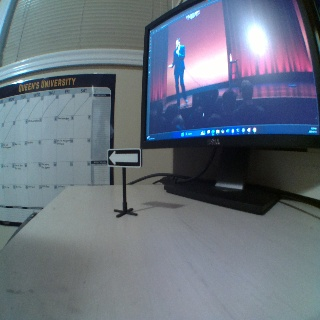sign_oneway_left: (107, 147, 139, 167)
